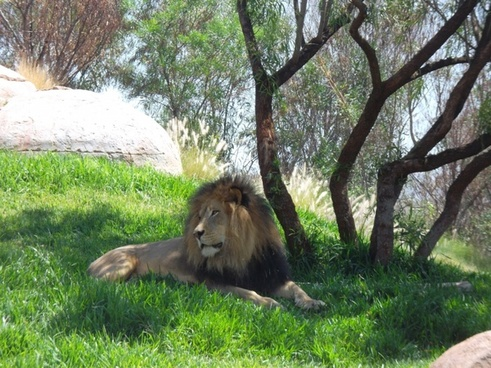lion: (184, 192, 252, 263)
